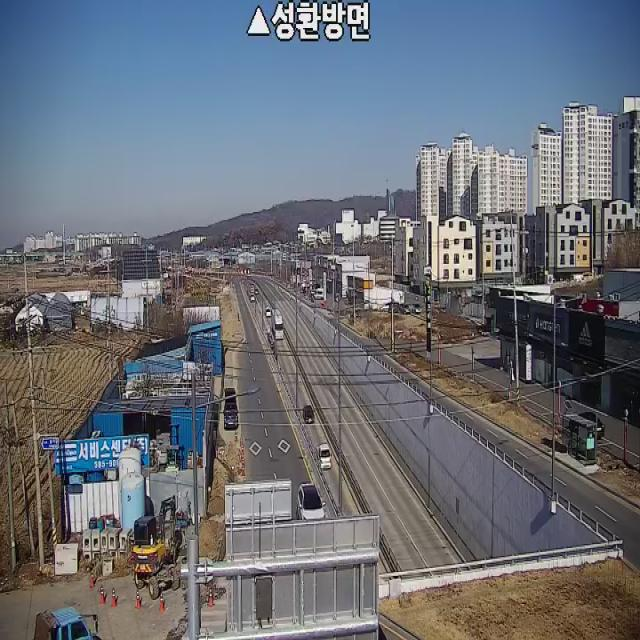Car: (296, 482, 326, 520), (573, 411, 604, 441), (303, 405, 315, 423), (266, 308, 272, 317)
Truck: (34, 607, 99, 640), (223, 388, 237, 428), (271, 308, 284, 340), (319, 443, 331, 469)
